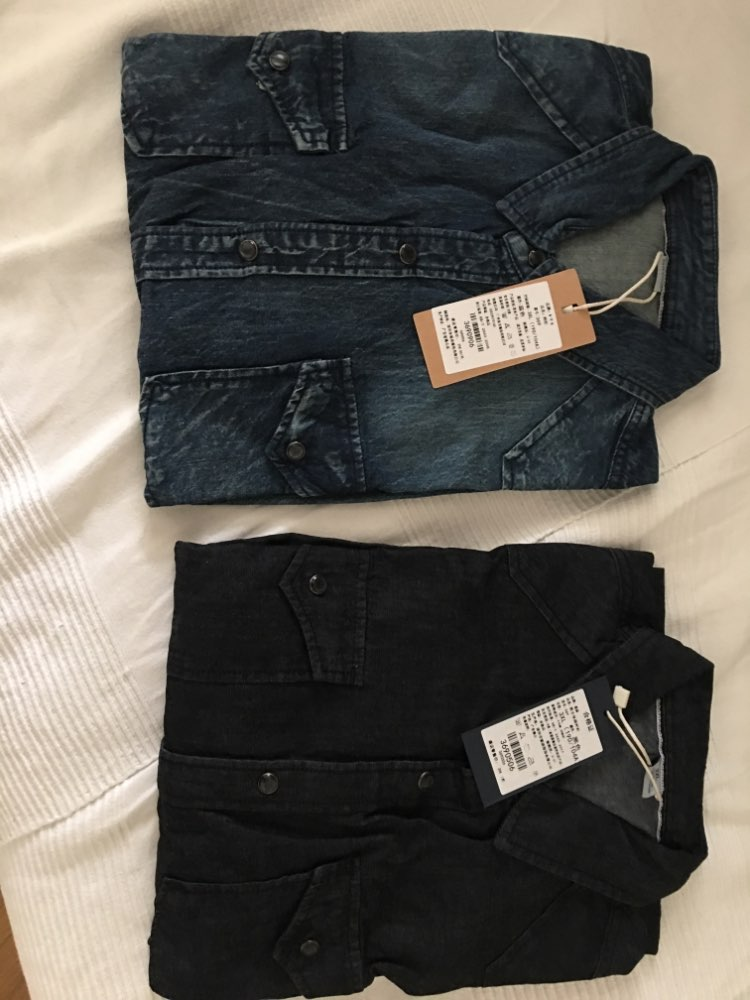shirts: (140, 27, 688, 472), (176, 547, 700, 978)
